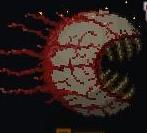eyeC: (1, 0, 147, 133)
